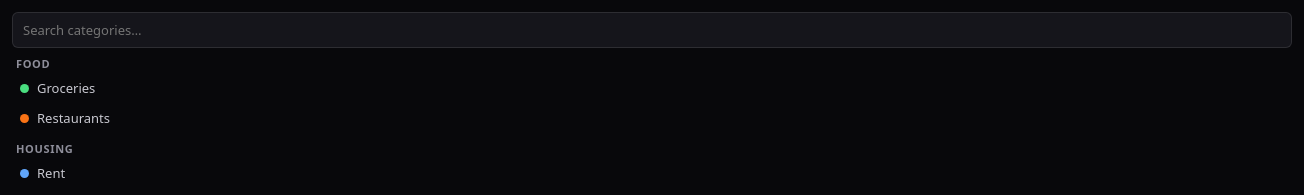
CategoryPicker › filters items by search query
Type "groc" into the search field.
click(652, 30); type("groc")  # box [12,12,1292,48]
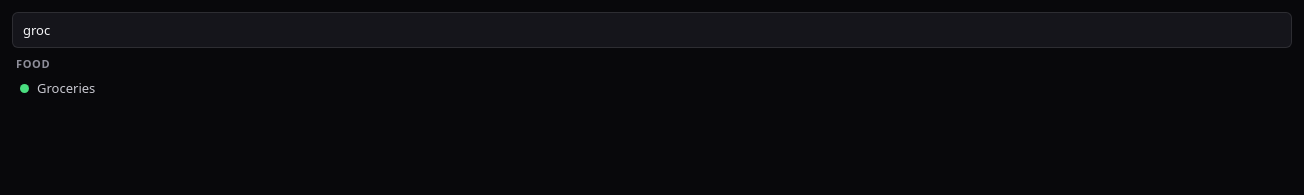
Expected: the option "Groceries" is shown, [12,73,1292,103]
Result: the option "Rent" is gone
